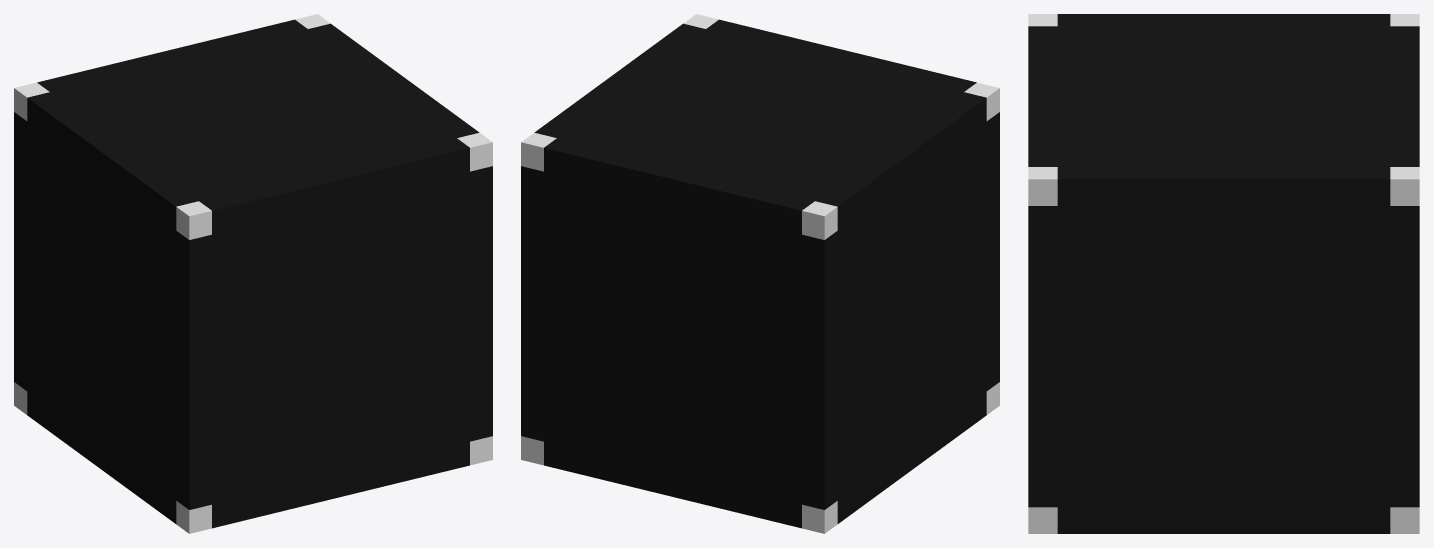
Rendered from PlataformaMovil.FBX.
The picture shows the model from 3 angles, left to right: view 1: azimuth 30°, elevation 25°; view 2: azimuth 150°, elevation 25°; view 3: azimuth 270°, elevation 25°; orthographic projection. The views are drawn at different scales.
Parts seen in each view (by area): view 1: PlataformaMovil; view 2: PlataformaMovil; view 3: PlataformaMovil.
Boxes of the visible parts, left/top/right/bottom form: PlataformaMovil: left=14, top=14, right=492, bottom=533; PlataformaMovil: left=521, top=14, right=999, bottom=533; PlataformaMovil: left=1028, top=14, right=1419, bottom=533.
Bounding box in the file's own units: 1 × 1 × 1.
Materials: 1 (1 with a texture image).
